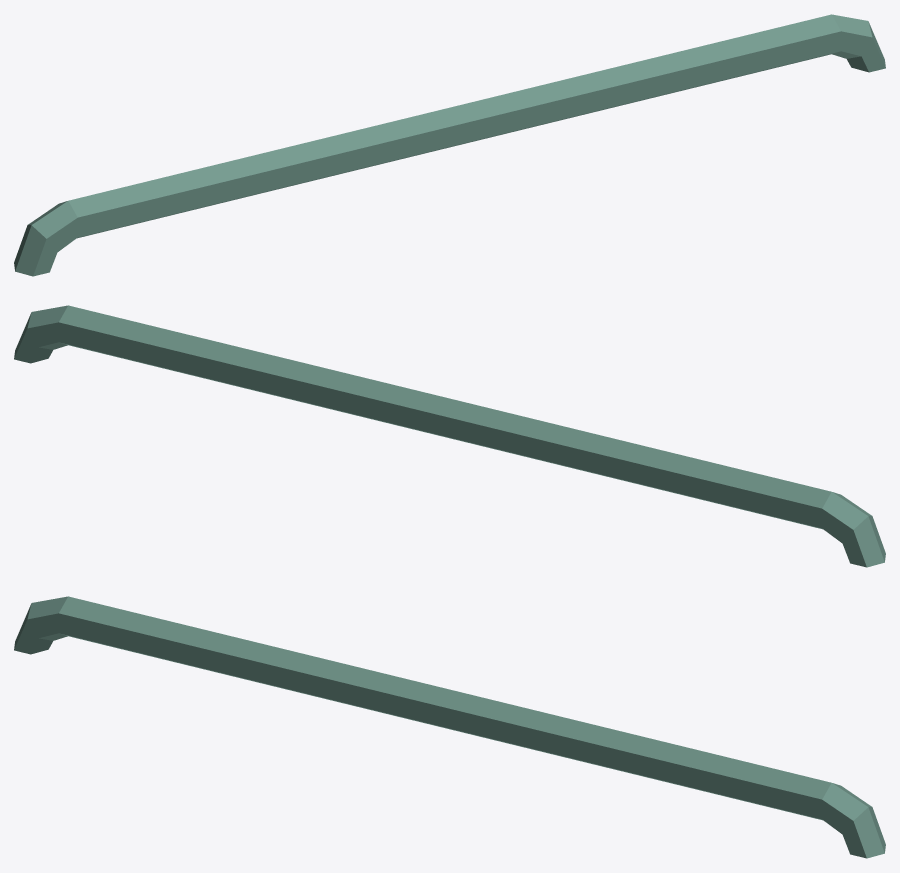
File: Pipe_Straight.glb
3 renders of one model, top to bottom at view 1: azimuth 30°, elevation 25°; view 2: azimuth 150°, elevation 25°; view 3: azimuth 330°, elevation 25°, orthographic.
Visible parts, largest first — view 1: Pipe_Straight; view 2: Pipe_Straight; view 3: Pipe_Straight.
Part boxes in pixels (left/top/right/bottom): Pipe_Straight: left=14, top=14, right=885, bottom=276; Pipe_Straight: left=14, top=305, right=885, bottom=567; Pipe_Straight: left=14, top=596, right=885, bottom=858.
Size of the model in its own units: 1.51 by 0.096 by 0.0571.
1 material, 1 textured.
